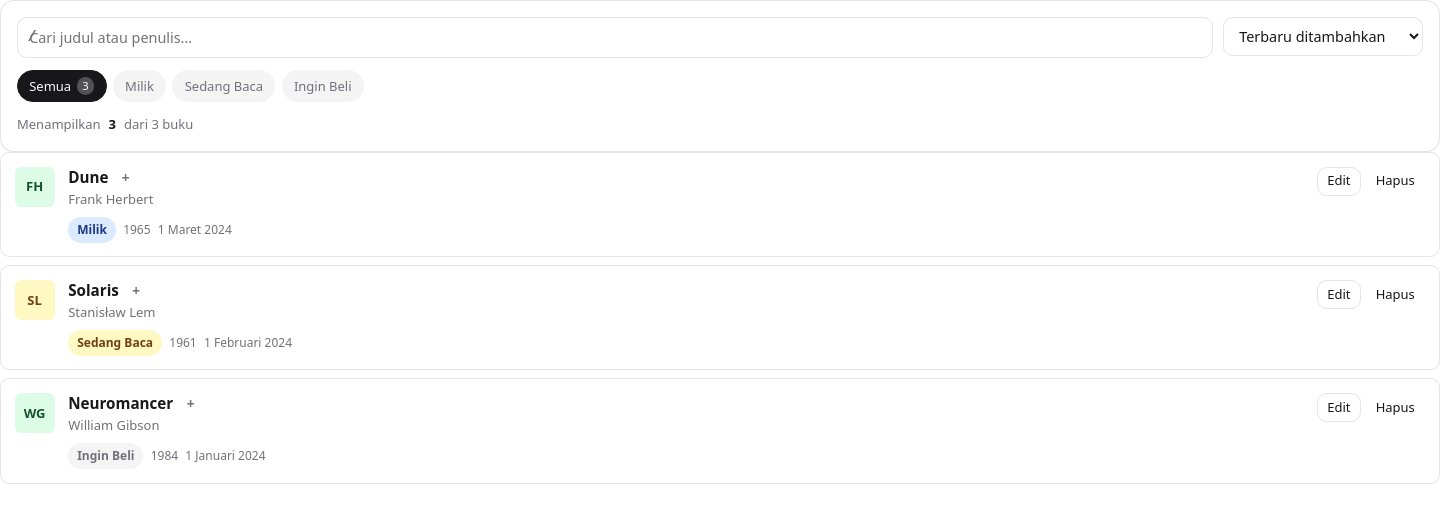
Test: useBookFilter + BookFilter + BookList › mengurutkan judul secara menaik (A-Z)
This screenshot has width=1440, height=509.
Select "Judul (A-Z)" in the dropdown named "urutkan daftar" at (1323, 36), box [1223, 17, 1423, 56]
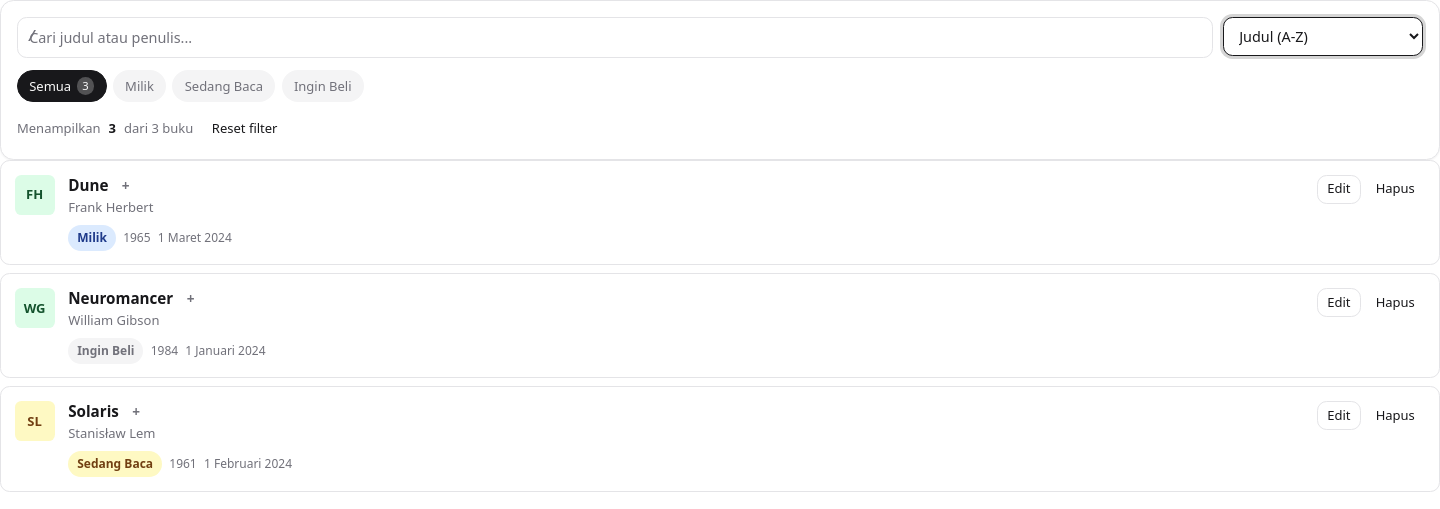
Now the headings read "Dune", "Neuromancer", "Solaris", in this order, box [68, 175, 108, 195]; [68, 288, 173, 308]; [68, 401, 119, 422]
